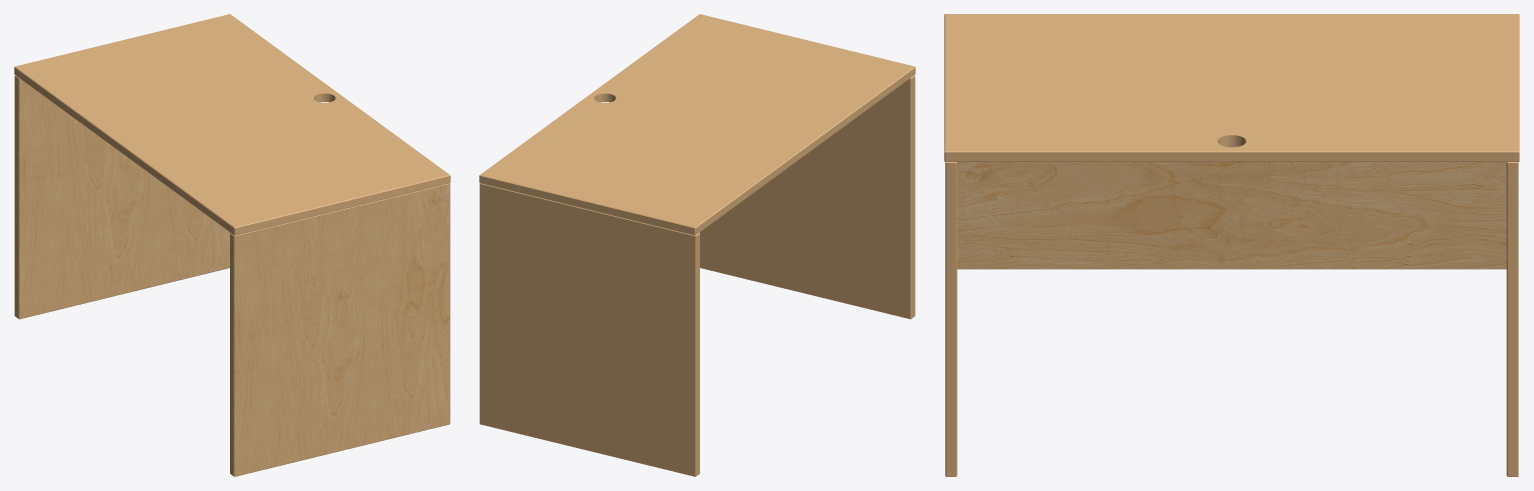
The model's file is Desk_light.gltf.
The picture shows the model from 3 angles, left to right: view 1: azimuth 30°, elevation 25°; view 2: azimuth 150°, elevation 25°; view 3: azimuth 270°, elevation 25°; orthographic projection. The views are drawn at different scales.
Parts seen in each view (by area): view 1: Desk; view 2: Desk; view 3: Desk.
Part boxes in pixels (bbox=[...]): Desk: bbox=[14, 14, 450, 476]; Desk: bbox=[479, 14, 915, 476]; Desk: bbox=[944, 14, 1519, 476].
Bounding box in the file's own units: 6.8 × 7.5 × 12.
1 material, 1 textured.
